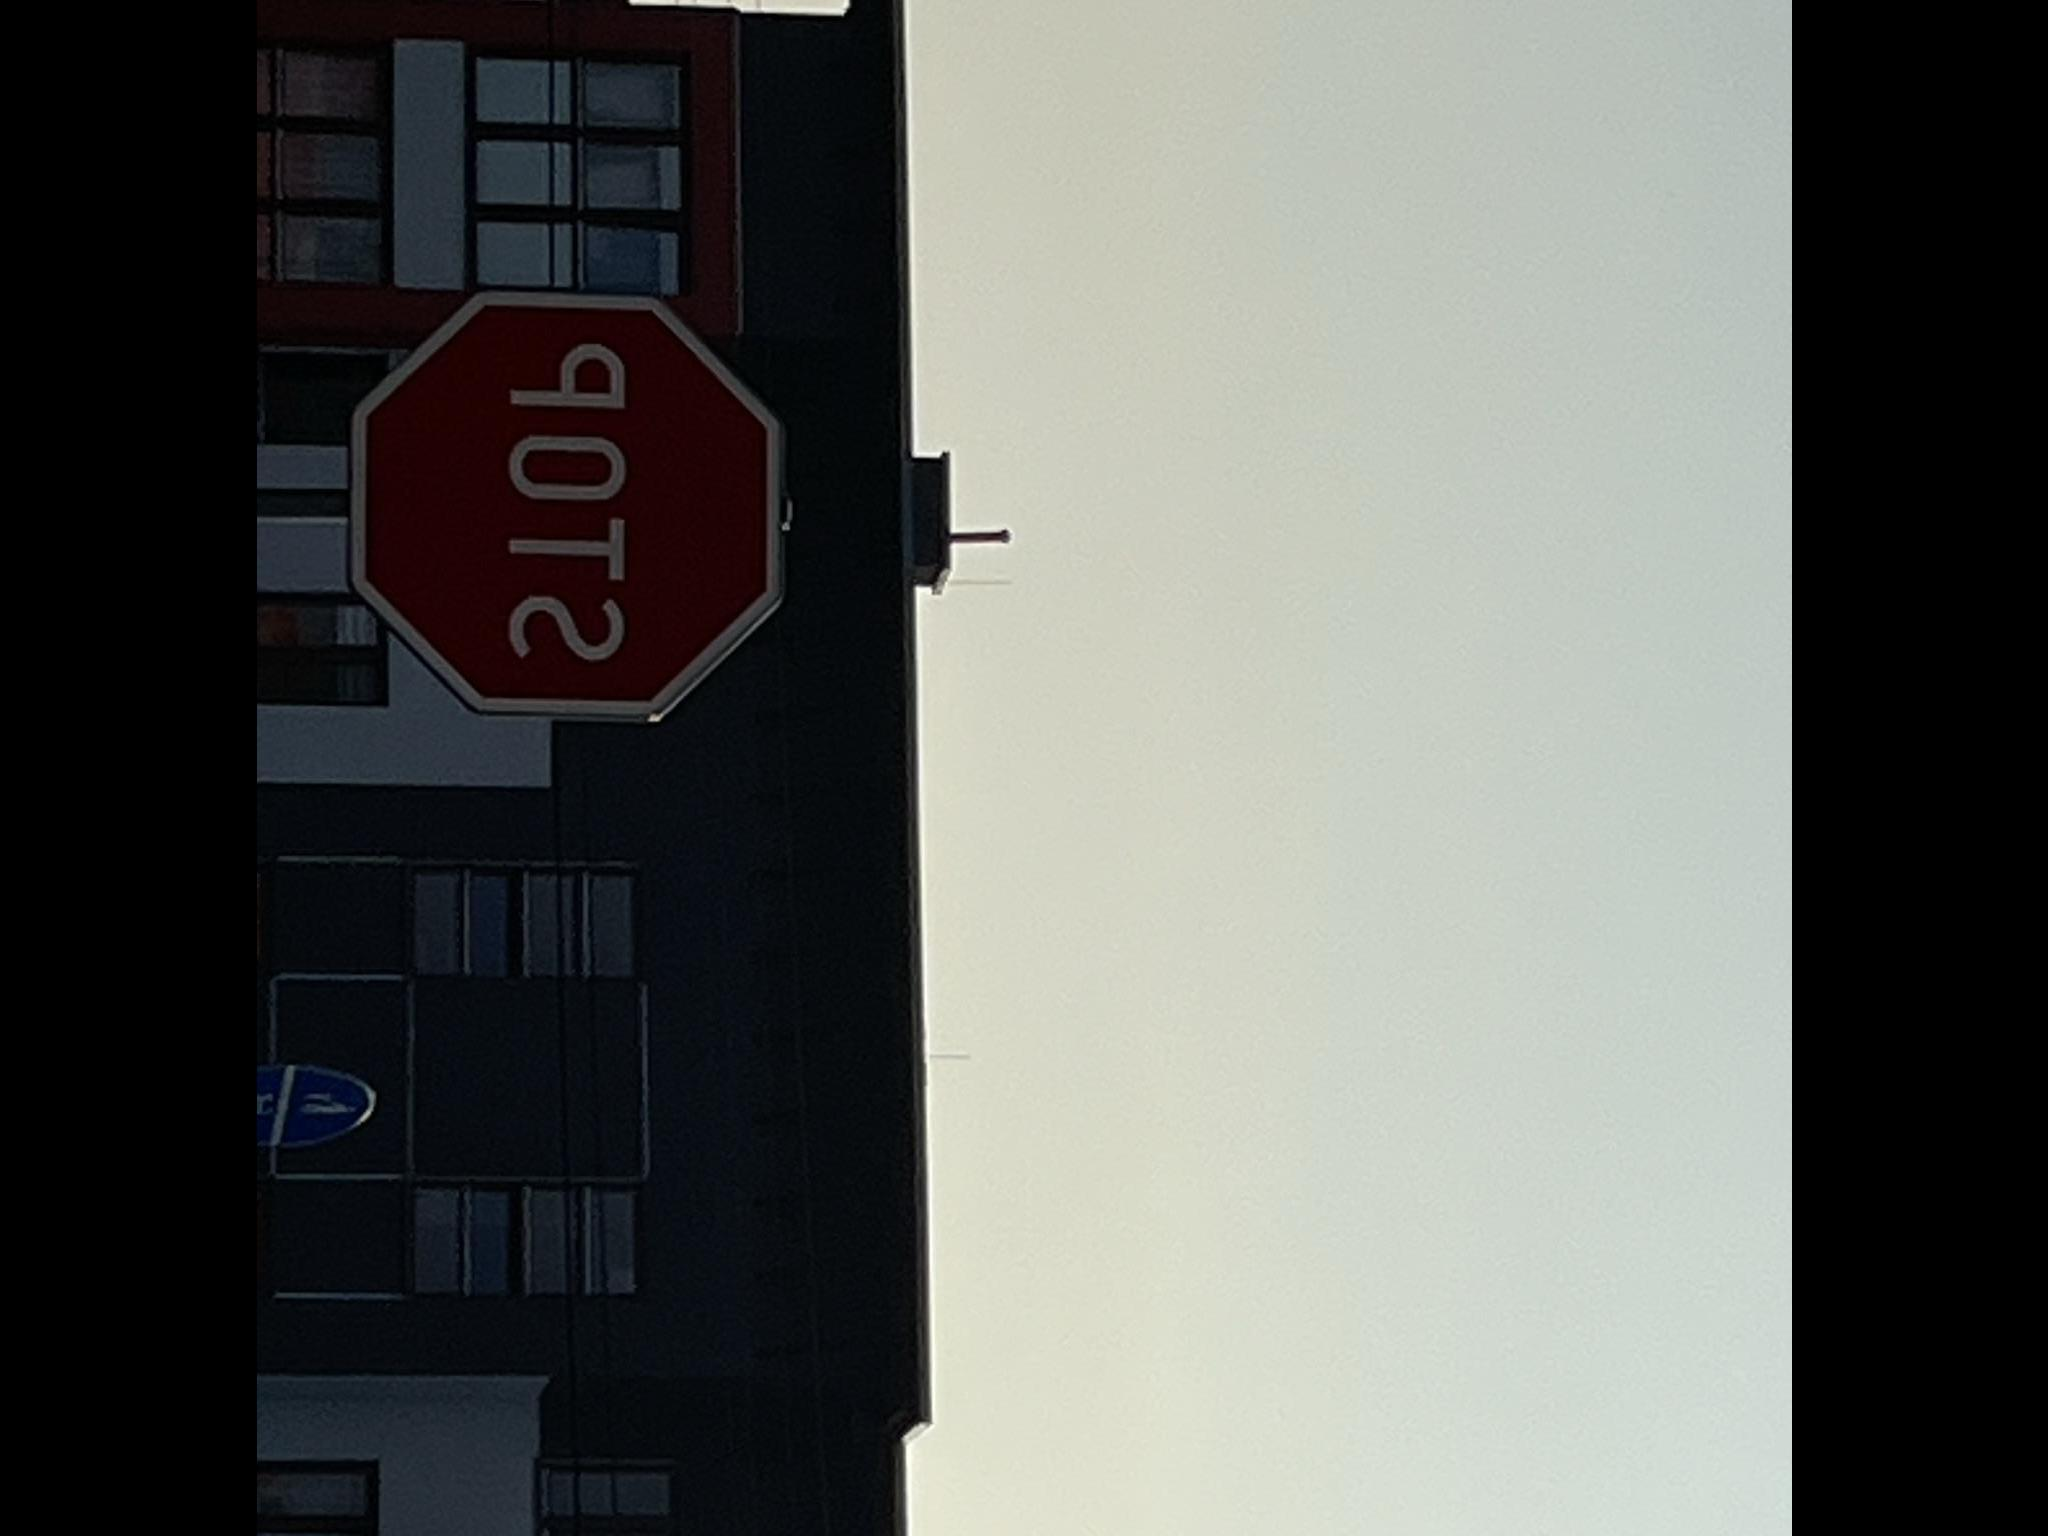mandatory: (256, 1062, 377, 1152)
prohibitory: (343, 282, 789, 721)
